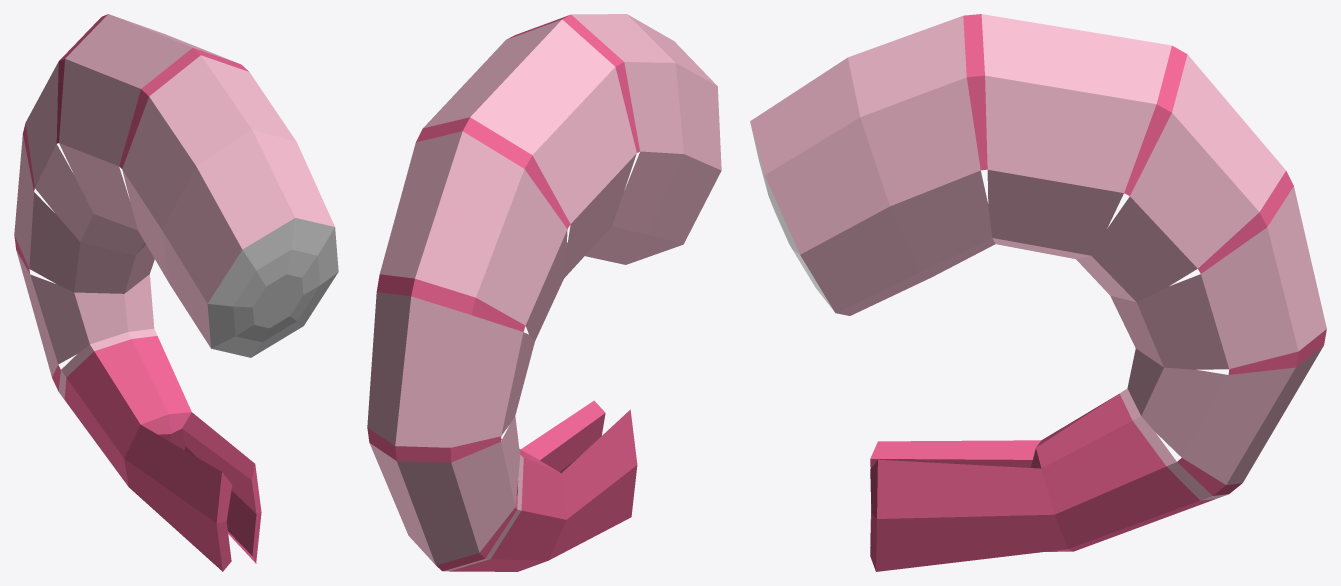
File: food-drink-shrimp-234.glb
3 renders of one model, left to right at view 1: azimuth 30°, elevation 25°; view 2: azimuth 150°, elevation 25°; view 3: azimuth 270°, elevation 25°, orthographic. The views are drawn at different scales.
Parts seen in each view (by area): view 1: Shrimp_Circle.007; view 2: Shrimp_Circle.007; view 3: Shrimp_Circle.007.
Part boxes in pixels (bbox=[...]): Shrimp_Circle.007: bbox=[14, 14, 338, 571]; Shrimp_Circle.007: bbox=[367, 14, 721, 571]; Shrimp_Circle.007: bbox=[750, 14, 1326, 571].
Size of the model in its own units: 3.16 by 10.33 by 9.84.
